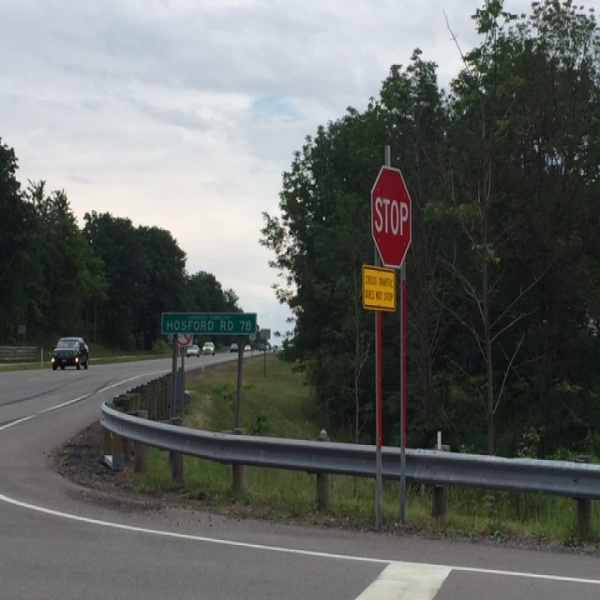stop: (373, 168, 417, 270)
